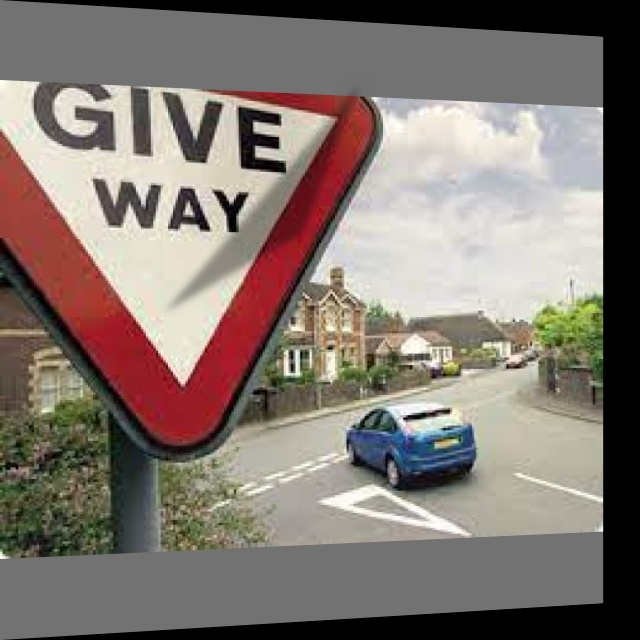Give_Way: (8, 80, 357, 401)
